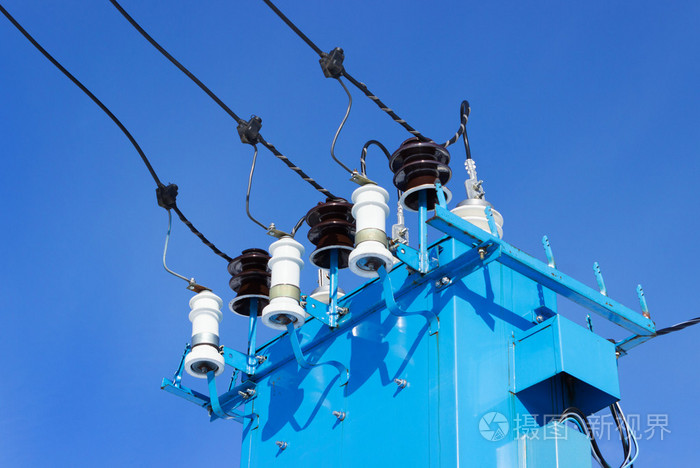insulator: (393, 141, 453, 209), (303, 202, 354, 260), (226, 256, 272, 312)
